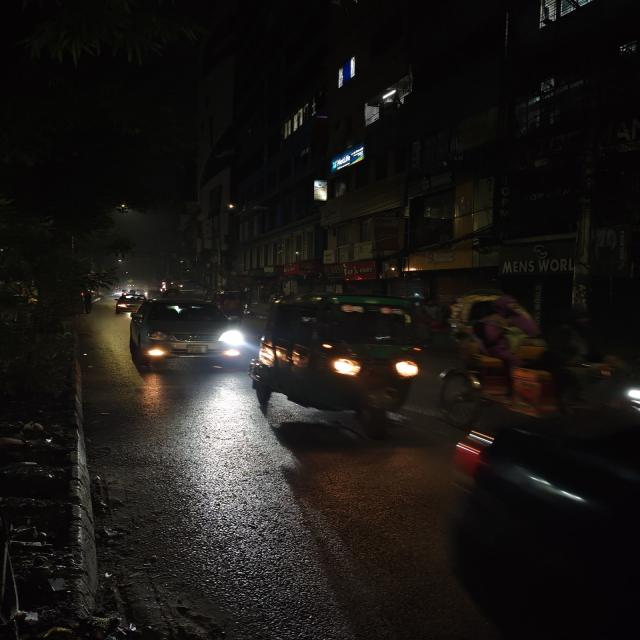car: (123, 297, 247, 373), (110, 292, 144, 314)
cng: (242, 294, 444, 444)
